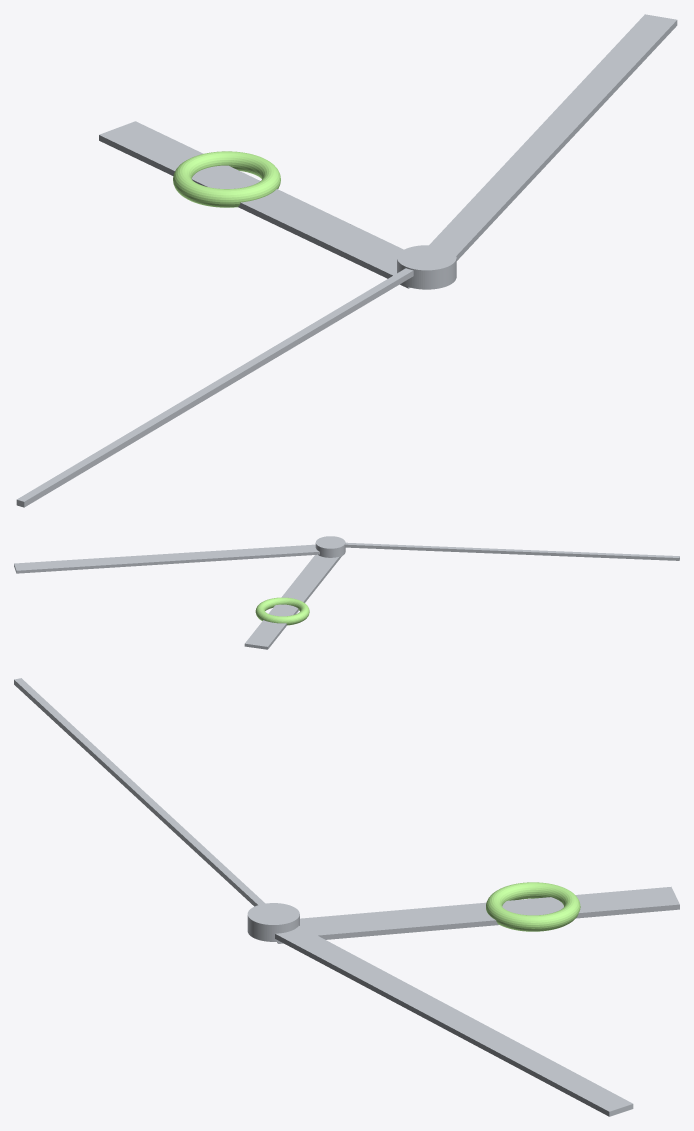
Rendered from hands_mercedes_42mm_v1.glb.
3 views of the same model, one above another, from view 1: azimuth 30°, elevation 25°; view 2: azimuth 150°, elevation 25°; view 3: azimuth 270°, elevation 25° (orthographic). The views are drawn at different scales.
Parts seen in each view (by area): view 1: DD_HAND_MINUTE, DD_HAND_HOUR, DD_HAND_SECONDS, DD_HAND_HOUR_MARKER, DD_HAND_HUB; view 2: DD_HAND_MINUTE, DD_HAND_HOUR, DD_HAND_SECONDS, DD_HAND_HOUR_MARKER, DD_HAND_HUB; view 3: DD_HAND_MINUTE, DD_HAND_HOUR, DD_HAND_SECONDS, DD_HAND_HOUR_MARKER, DD_HAND_HUB.
Boxes of the visible parts, x1,y1,x2,y2 form: DD_HAND_MINUTE: (429, 14, 677, 260); DD_HAND_HOUR: (99, 121, 410, 288); DD_HAND_SECONDS: (16, 268, 413, 507); DD_HAND_HOUR_MARKER: (173, 151, 280, 207); DD_HAND_HUB: (397, 245, 456, 289); DD_HAND_MINUTE: (14, 544, 319, 573); DD_HAND_HOUR: (244, 554, 341, 649); DD_HAND_SECONDS: (345, 542, 679, 560); DD_HAND_HOUR_MARKER: (255, 597, 309, 625); DD_HAND_HUB: (315, 536, 345, 557); DD_HAND_MINUTE: (275, 926, 633, 1116); DD_HAND_HOUR: (277, 886, 679, 943); DD_HAND_SECONDS: (14, 678, 265, 906); DD_HAND_HOUR_MARKER: (486, 882, 580, 931); DD_HAND_HUB: (247, 903, 299, 941).
Size of the model in its own units: 27.05 by 0.67 by 17.86.
